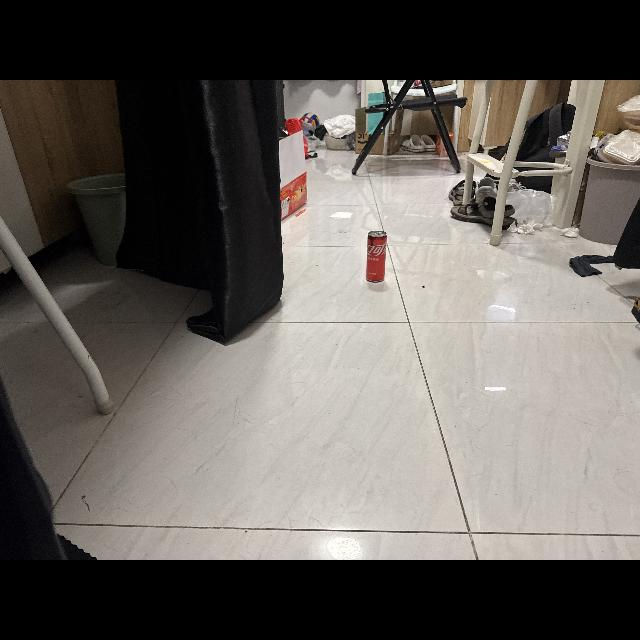Cola: (362, 226, 392, 286)
